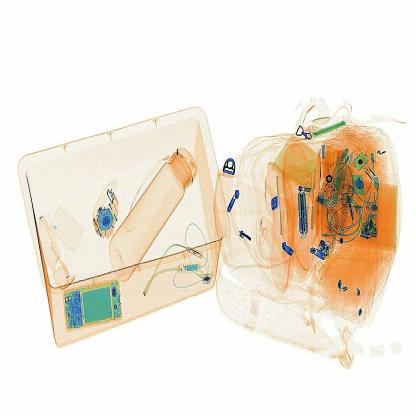scissors: (294, 182, 319, 242)
